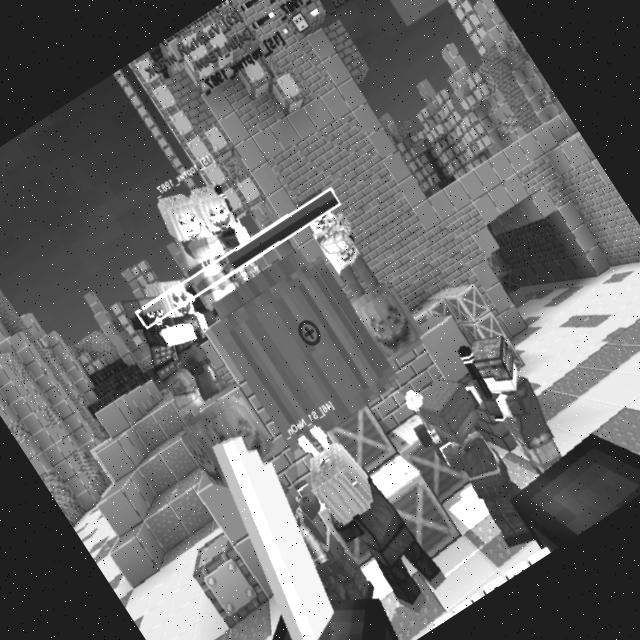Head: (296, 436, 382, 526), (404, 364, 488, 448), (461, 329, 528, 398), (242, 471, 300, 529), (153, 189, 210, 247), (142, 272, 196, 328), (189, 182, 240, 234), (118, 288, 168, 338), (295, 187, 340, 234)
Player: (393, 362, 562, 568), (288, 428, 452, 627), (240, 448, 380, 620), (444, 328, 584, 493), (105, 276, 238, 430), (125, 262, 248, 408), (140, 180, 252, 318), (285, 180, 388, 306), (178, 168, 281, 294)
